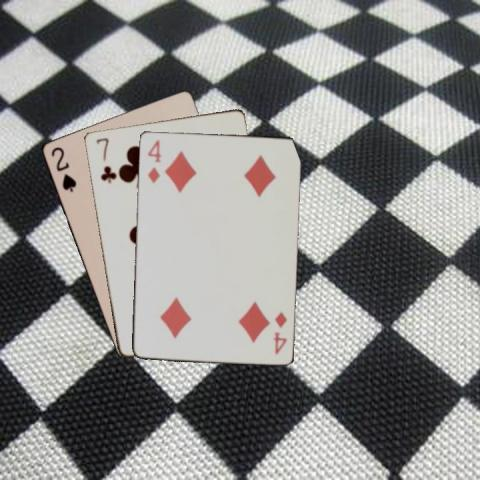2s: (48, 144, 78, 193)
4d: (144, 136, 162, 184), (270, 308, 288, 356)
7c: (93, 135, 115, 184)
